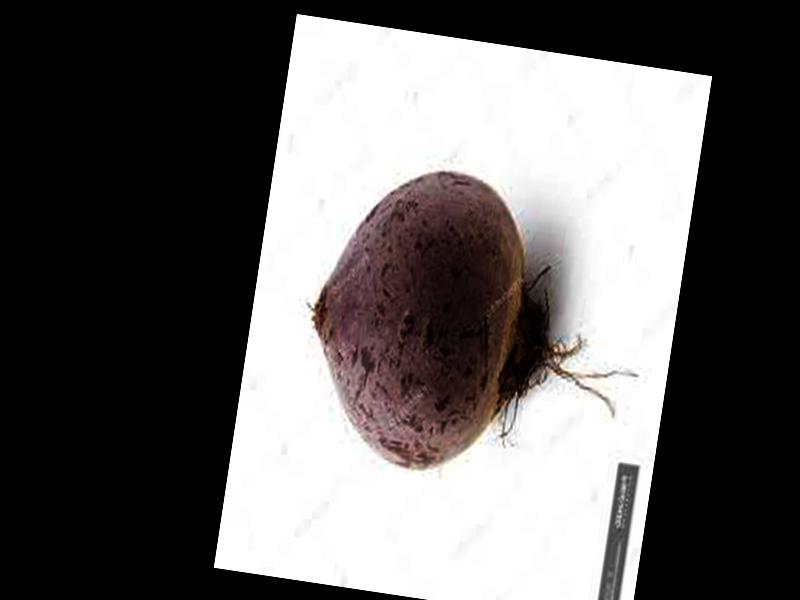Beet: (289, 153, 665, 503)
